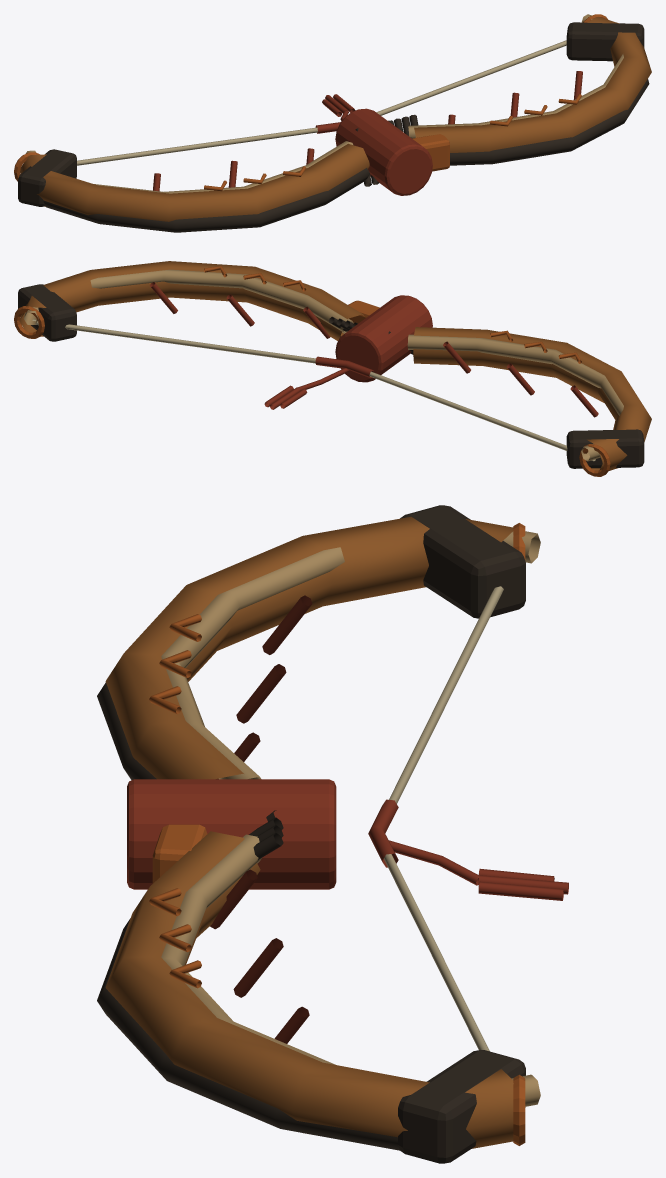
File: greek_composite_bow_LOD0.glb
The picture shows the model from 3 angles, top to bottom: view 1: azimuth 30°, elevation 25°; view 2: azimuth 150°, elevation 25°; view 3: azimuth 270°, elevation 25°; orthographic projection. The views are drawn at different scales.
Parts seen in each view (by area): view 1: BowYewCore_L, BowYewCore_R, BowGripCore, BowHornBelly_L, BowHornBelly_R, BowLinenString, BowHornSiyah.001, BowHornSiyah, BowBronzeArrowPass, BowSinewBack_R, BowSinewBack_L; view 2: BowYewCore_R, BowYewCore_L, BowGripCore, BowSinewBack_R, BowSinewBack_L, BowLinenString, BowHornSiyah, BowHornSiyah.001, BowCentralServing, BowBronzeNock.001, BowBronzeNock, BowBronzeArrowPass; view 3: BowYewCore_R, BowYewCore_L, BowGripCore, BowHornSiyah, BowHornSiyah.001, BowSinewBack_L, BowHornBelly_R, BowSinewBack_R, BowLinenString, BowBronzeArrowPass, BowHornBelly_L, BowTassel.002 (+5 smaller).
Part boxes in pixels (bbox=[...]): BowYewCore_L: bbox=[20, 143, 369, 221]; BowYewCore_R: bbox=[414, 17, 651, 152]; BowGripCore: bbox=[335, 108, 432, 195]; BowHornBelly_L: bbox=[43, 168, 369, 232]; BowHornBelly_R: bbox=[450, 79, 649, 165]; BowLinenString: bbox=[77, 40, 566, 165]; BowHornSiyah.001: bbox=[566, 22, 644, 61]; BowHornSiyah: bbox=[18, 149, 76, 206]; BowBronzeArrowPass: bbox=[412, 134, 449, 171]; BowSinewBack_R: bbox=[408, 14, 623, 138]; BowSinewBack_L: bbox=[25, 141, 353, 193]; BowYewCore_R: bbox=[19, 261, 364, 340]; BowYewCore_L: bbox=[413, 327, 651, 470]; BowGripCore: bbox=[335, 295, 432, 382]; BowSinewBack_R: bbox=[23, 269, 353, 333]; BowSinewBack_L: bbox=[407, 334, 623, 461]; BowLinenString: bbox=[32, 319, 595, 461]; BowHornSiyah: bbox=[566, 429, 644, 468]; BowHornSiyah.001: bbox=[18, 284, 76, 341]; BowCentralServing: bbox=[315, 356, 374, 378]; BowBronzeNock.001: bbox=[14, 306, 44, 338]; BowBronzeNock: bbox=[579, 444, 610, 476]; BowBronzeArrowPass: bbox=[348, 300, 379, 323]; BowYewCore_R: bbox=[105, 831, 513, 1148]; BowYewCore_L: bbox=[105, 516, 513, 779]; BowGripCore: bbox=[127, 779, 336, 889]; BowHornSiyah: bbox=[400, 505, 525, 618]; BowHornSiyah.001: bbox=[398, 1050, 525, 1163]; BowSinewBack_L: bbox=[161, 531, 540, 779]; BowHornBelly_R: bbox=[97, 918, 399, 1150]; BowSinewBack_R: bbox=[161, 834, 540, 1106]; BowLinenString: bbox=[383, 586, 503, 1051]; BowBronzeArrowPass: bbox=[152, 824, 207, 883]; BowHornBelly_L: bbox=[97, 682, 156, 780]; BowTassel.002: bbox=[478, 881, 563, 900].
Size of the model in its own units: 1.69 by 0.13 by 0.5533.
